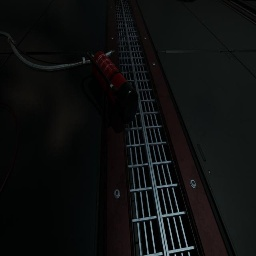FireExtinguisher ]: (86, 51, 139, 125)
